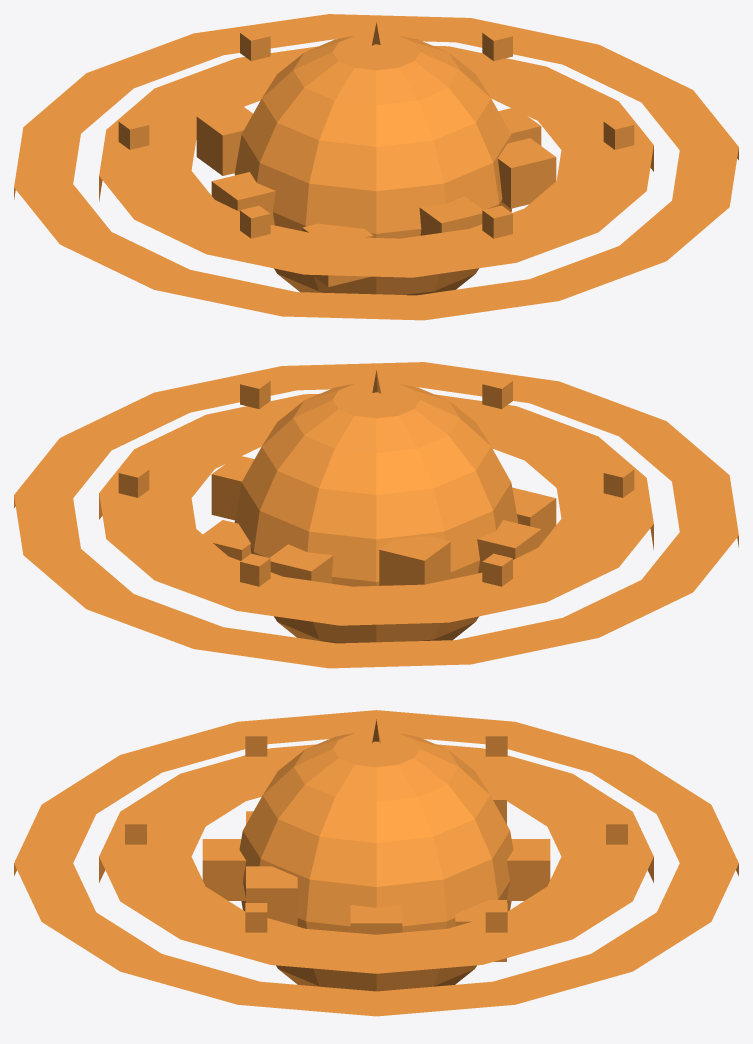
Rendered from spell_fireball_explosion.glb.
3 views of the same model, one above another, from view 1: azimuth 30°, elevation 25°; view 2: azimuth 150°, elevation 25°; view 3: azimuth 270°, elevation 25° (orthographic).
Visible parts, largest first — view 1: SpellFireballExplosion_Node; view 2: SpellFireballExplosion_Node; view 3: SpellFireballExplosion_Node.
Boxes of the visible parts, box(x1,y1,x2,y2) form: SpellFireballExplosion_Node: box(14, 14, 738, 320); SpellFireballExplosion_Node: box(14, 362, 738, 668); SpellFireballExplosion_Node: box(14, 710, 738, 1016).
Bounding box in the file's own units: 1.96 × 0.83 × 1.96.
